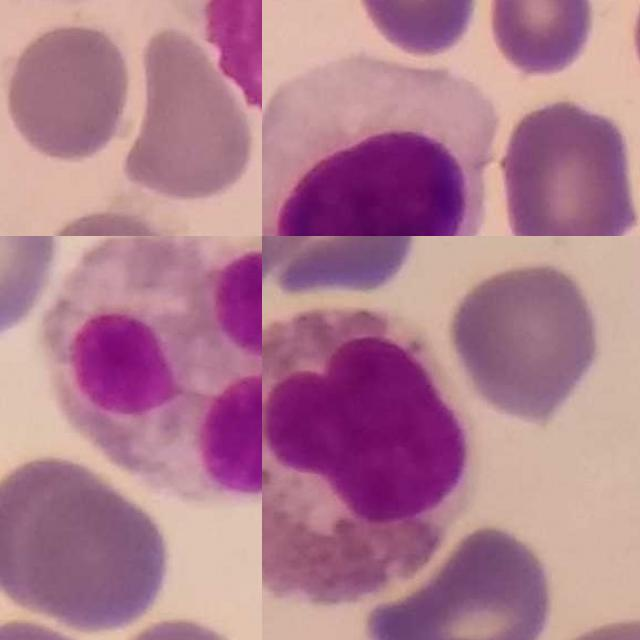Eosinophil: (262, 302, 472, 611), (42, 236, 262, 511)
Lymphocyte: (262, 54, 500, 236)
Monocyte: (150, 0, 262, 121)
